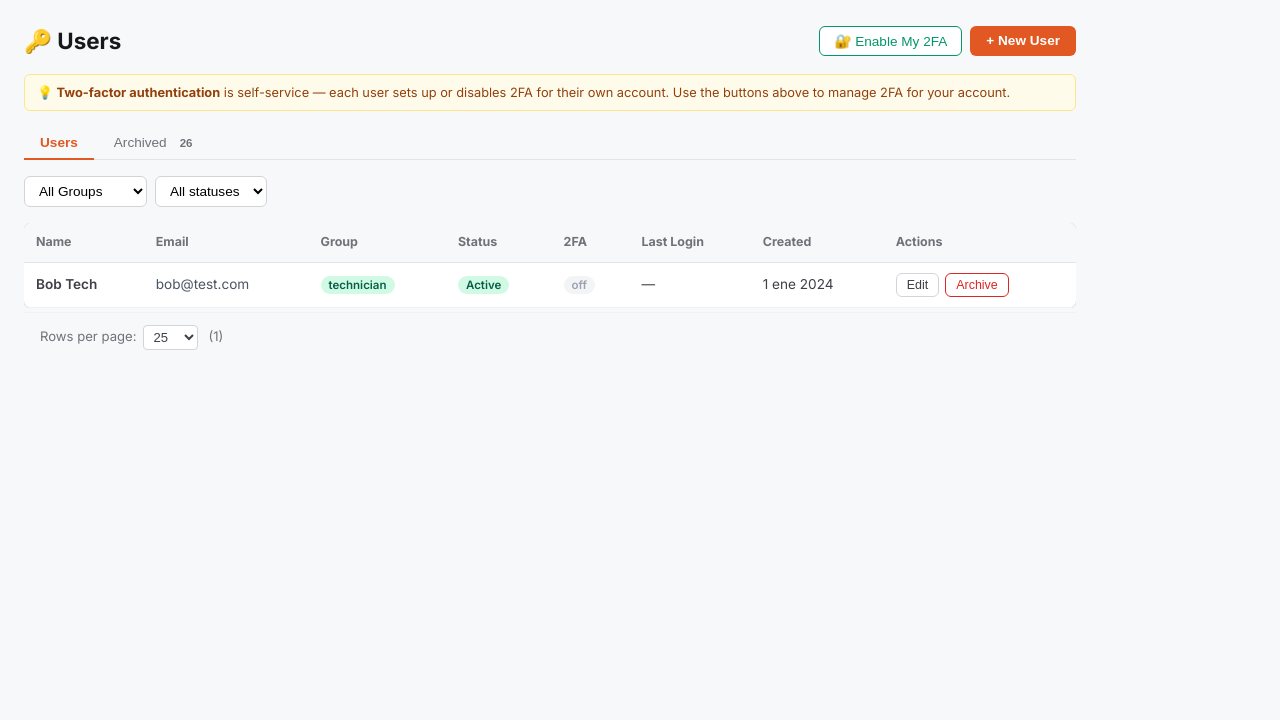
it: UserList page › Archive action (main tab) + Archived tab › clamps the Archived tab back to page 1 after Restore empties the stranded last page
Check: the text "bob@test.com" is shown, box [144,262,308,307]
Click the tab "Archived26" at (157, 143), box [98,127,216,160]
(page scrolled)
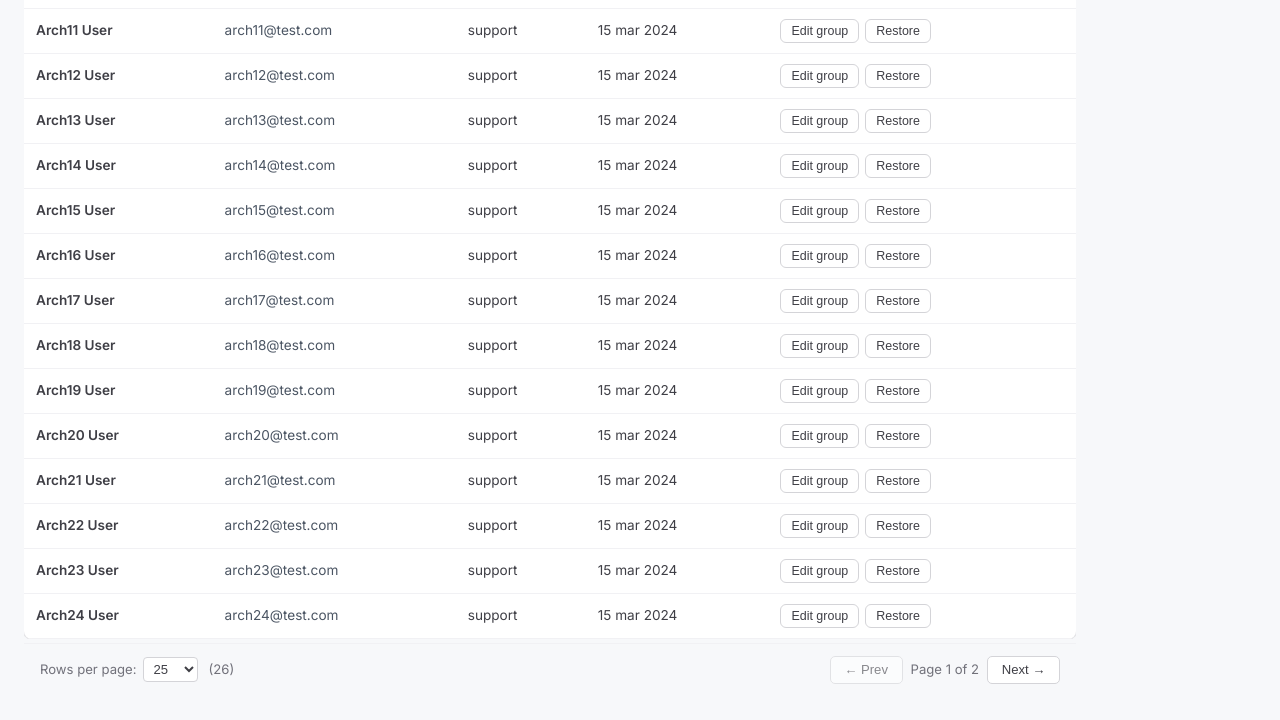
Click the button "Next →" at (1024, 670), box [987,656,1060,684]
(page scrolled)
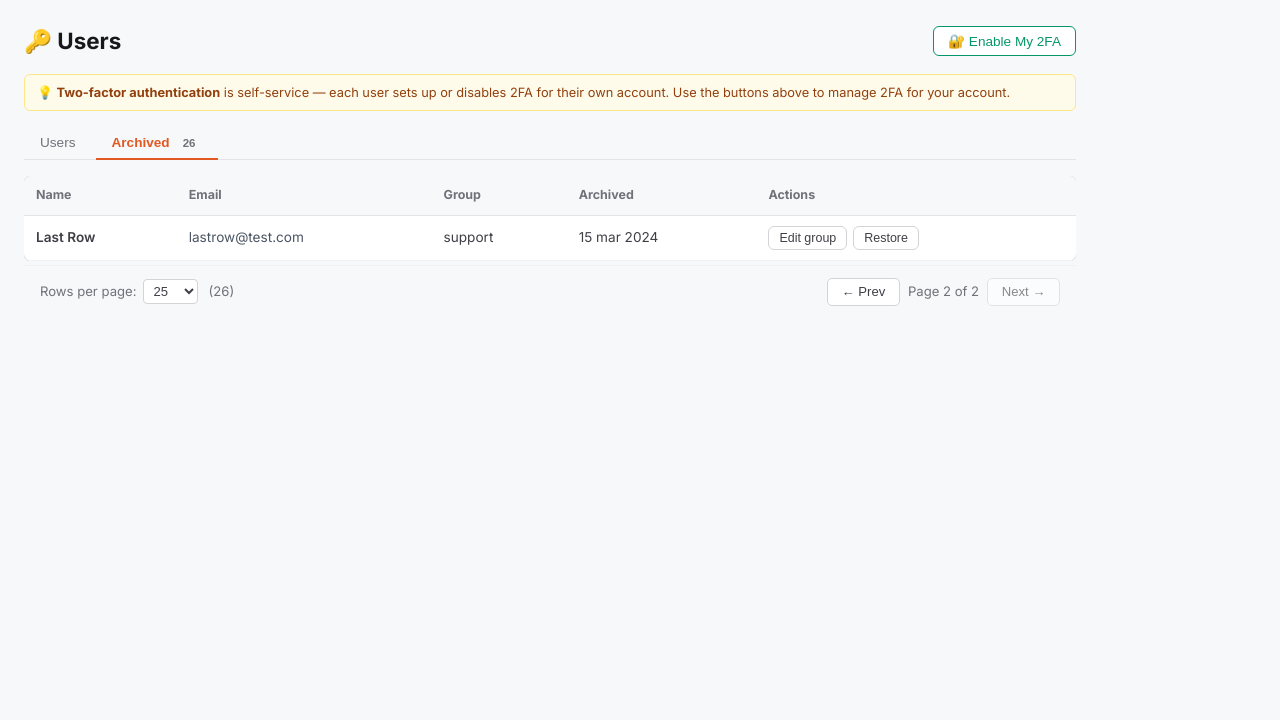
Check: the text "lastrow@test.com" is shown, box [177,215,432,260]
Click the button "Restore" at (886, 238), box [853,226,919,250]
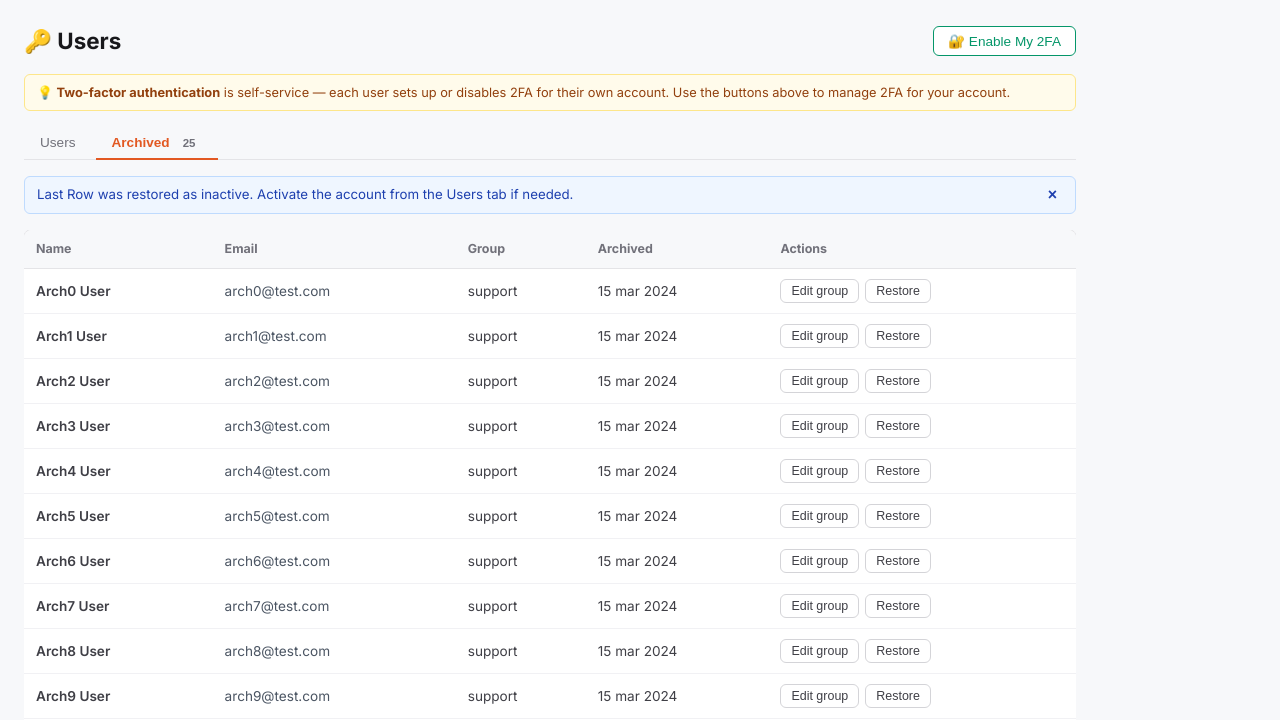
Check: the text "arch0@test.com" is shown, box [213,269,456,314]
Check: the text "lastrow@test.com" is gone
